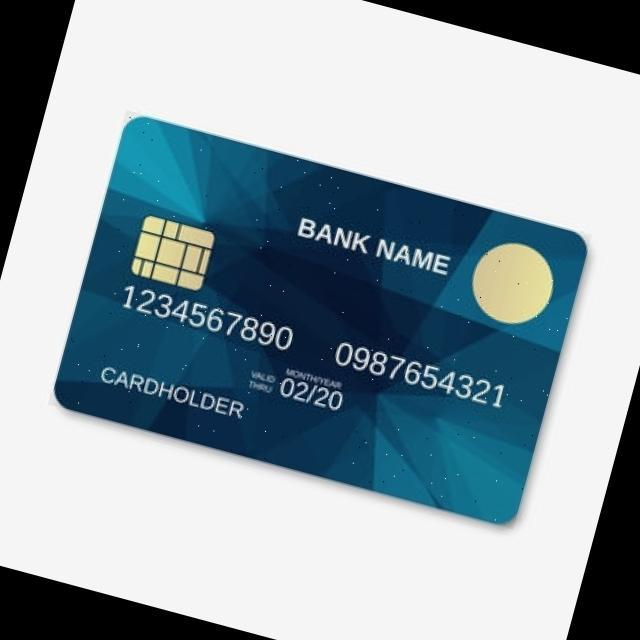payment_card: (51, 111, 589, 526)
